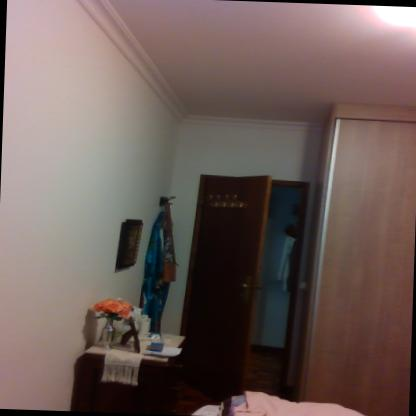semi: (188, 169, 300, 380)
